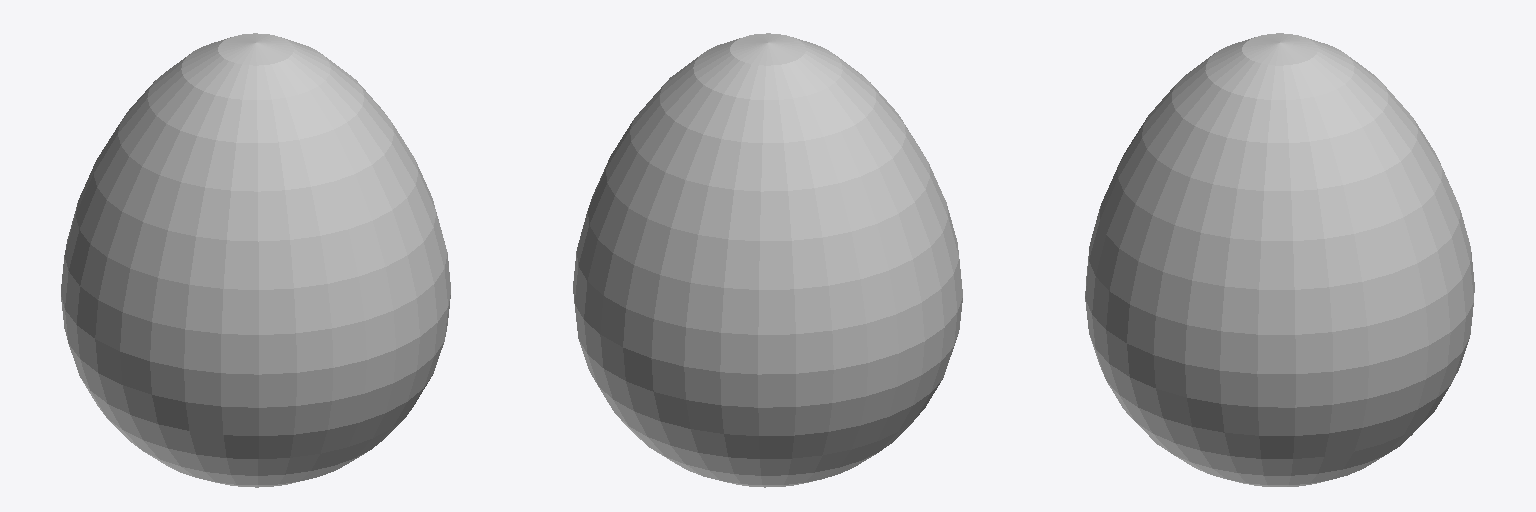
The model's file is game1.obj.
The picture shows the model from 3 angles: view 1: azimuth 30°, elevation 25°; view 2: azimuth 150°, elevation 25°; view 3: azimuth 270°, elevation 25°; orthographic projection.
Visible parts, largest first — view 1: Sphere; view 2: Sphere; view 3: Sphere.
Part boxes in pixels (x1,y1,x2,y2): Sphere: (61,33,450,487); Sphere: (573,33,962,487); Sphere: (1085,33,1474,486).
Bounding box in the file's own units: 1.99 × 2.41 × 1.99.